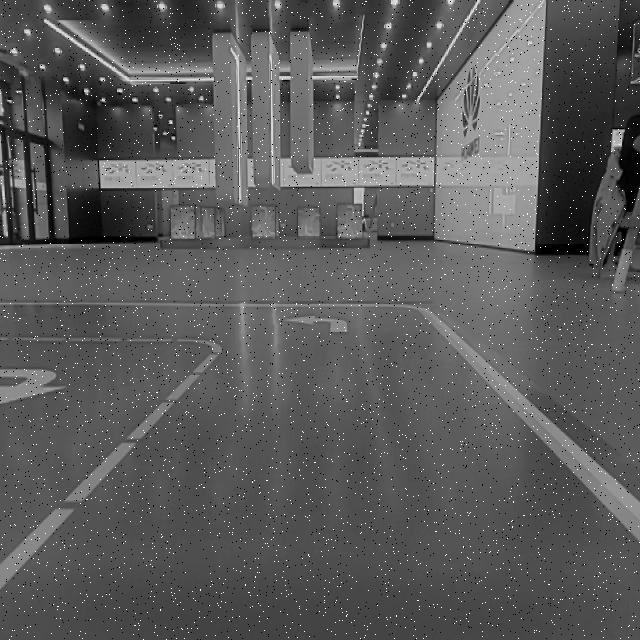left_lane: (0, 343, 230, 599)
right_lane: (420, 305, 640, 537)
